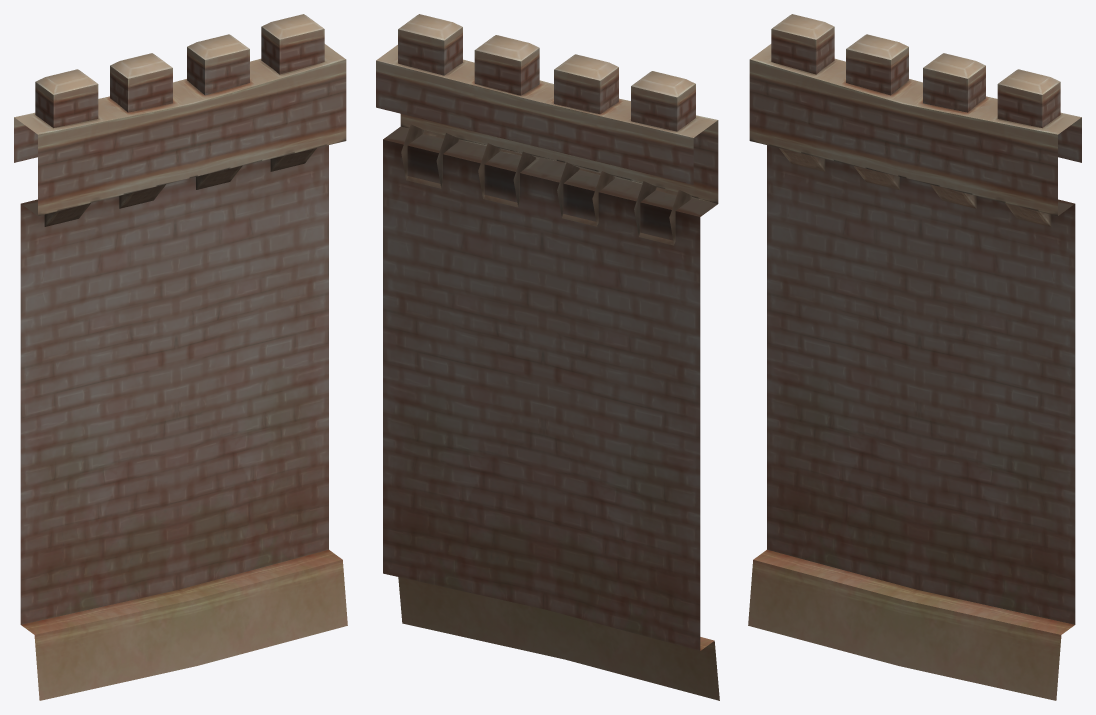
The model's file is castleWalls_bigWall_1_withoutBackSide.FBX.
3 views of the same model, side by side, from view 1: azimuth 30°, elevation 25°; view 2: azimuth 150°, elevation 25°; view 3: azimuth 330°, elevation 25° (orthographic). The views are drawn at different scales.
Visible parts, largest first — view 1: castleWalls_bigWall_1_withoutBackSide; view 2: castleWalls_bigWall_1_withoutBackSide; view 3: castleWalls_bigWall_1_withoutBackSide.
Boxes of the visible parts, x1,y1,x2,y2 form: castleWalls_bigWall_1_withoutBackSide: [14, 14, 347, 700]; castleWalls_bigWall_1_withoutBackSide: [376, 14, 719, 700]; castleWalls_bigWall_1_withoutBackSide: [748, 14, 1081, 700].
Size of the model in its own units: 302 by 564 by 49.23.
1 material, 1 textured.
